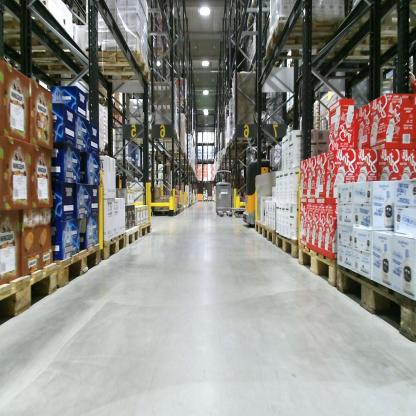pallet: (335, 267, 415, 342), (1, 265, 60, 327), (258, 20, 347, 60), (346, 2, 414, 40), (326, 37, 403, 70), (50, 241, 102, 287), (91, 46, 149, 84), (295, 241, 337, 285), (101, 229, 130, 264), (274, 227, 299, 261), (228, 134, 266, 150), (125, 224, 141, 251), (263, 222, 276, 248), (139, 220, 153, 240), (150, 134, 180, 143), (150, 46, 172, 58), (152, 130, 178, 140), (174, 96, 189, 107), (254, 220, 263, 238)
pallet_truck: (241, 147, 278, 231), (206, 159, 235, 221)
